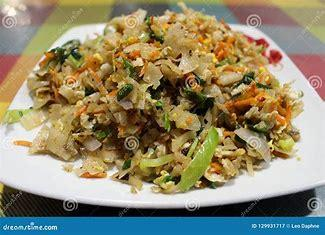Kottu: (25, 7, 298, 187)
